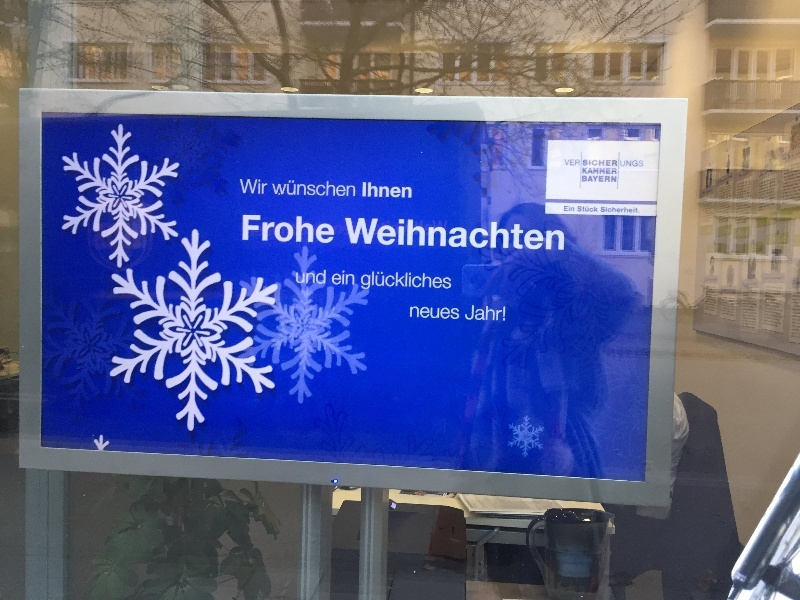text: (353, 217, 368, 254), (369, 217, 384, 254), (385, 217, 400, 254), (401, 217, 416, 254), (417, 217, 432, 254), (433, 217, 448, 254), (449, 217, 464, 254), (465, 217, 480, 254), (481, 217, 496, 254), (497, 217, 512, 254), (513, 217, 528, 254), (529, 217, 544, 254), (545, 217, 560, 254), (321, 214, 337, 246), (257, 214, 272, 246), (273, 214, 288, 246), (289, 214, 304, 246), (305, 214, 320, 246), (243, 214, 256, 246), (369, 269, 384, 290), (385, 269, 400, 290), (401, 269, 416, 290), (417, 269, 432, 290), (433, 269, 448, 290), (369, 181, 384, 199), (385, 181, 400, 199), (345, 217, 352, 254), (273, 180, 288, 197), (289, 180, 304, 197), (305, 180, 320, 197), (321, 180, 336, 197), (337, 180, 352, 197), (481, 305, 496, 321), (241, 179, 256, 195), (337, 270, 352, 285), (305, 270, 320, 285), (466, 305, 480, 321), (257, 179, 270, 195), (401, 181, 412, 199), (417, 307, 432, 320), (433, 307, 448, 320), (561, 217, 565, 254), (497, 305, 506, 321), (449, 307, 460, 320), (362, 269, 368, 290), (296, 270, 304, 285), (593, 159, 608, 167), (609, 207, 624, 214), (625, 207, 640, 214), (593, 168, 608, 175), (578, 206, 592, 213), (363, 181, 368, 199), (593, 176, 608, 182), (625, 161, 640, 167), (410, 307, 416, 320), (321, 270, 326, 285), (564, 206, 576, 212), (583, 159, 592, 167), (565, 160, 576, 166), (609, 159, 617, 167), (449, 269, 452, 290), (583, 168, 592, 175), (332, 270, 336, 285), (609, 168, 617, 175), (583, 176, 592, 182), (353, 180, 356, 197), (601, 207, 608, 214), (609, 176, 617, 182), (593, 206, 598, 213), (353, 270, 355, 285), (620, 161, 624, 167), (577, 160, 580, 166), (641, 161, 644, 167), (271, 180, 272, 197)
